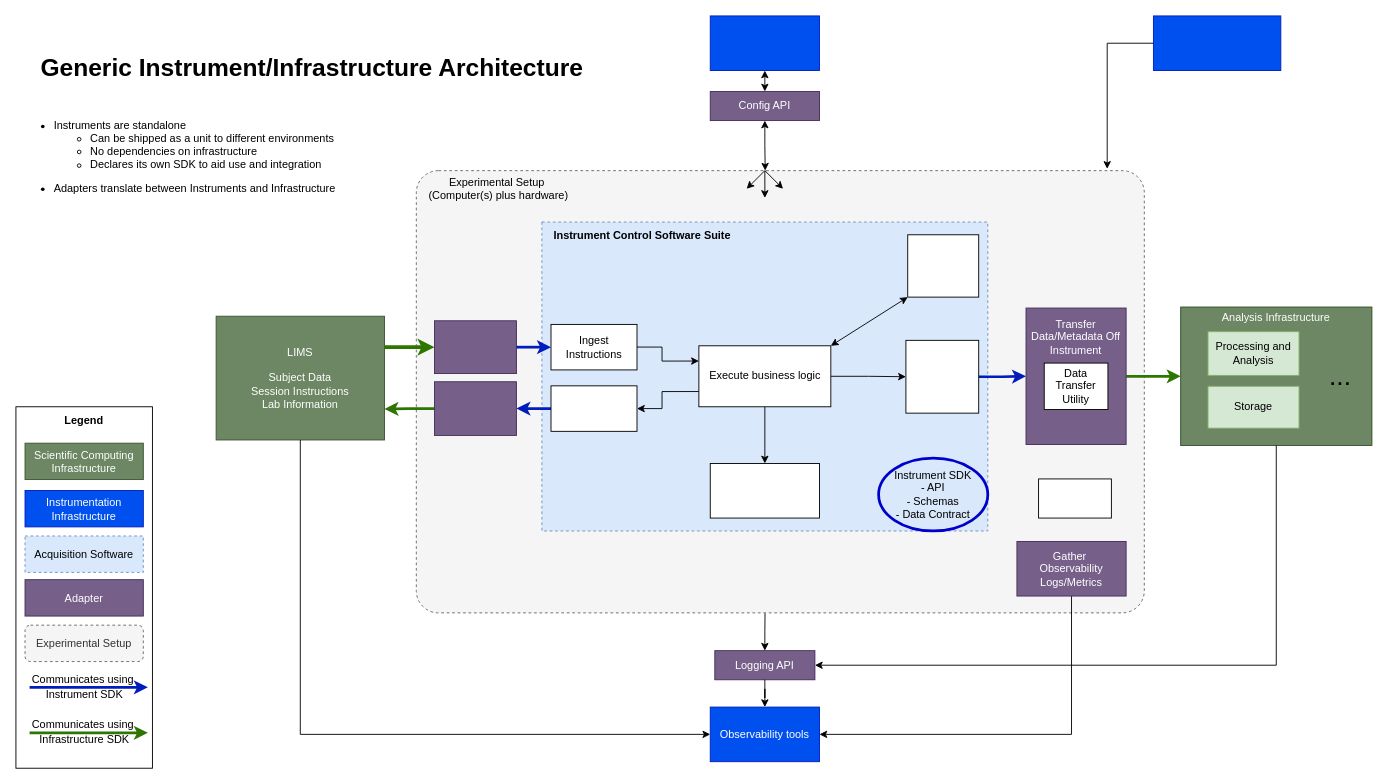
This 1388x784 diagram has some shape labels left out. Here are the shapes that lost their labels. From the top down, the centre of each, then its label:
At (764,43): "Instrument Configuration Storage".
At (1217,43): "Rig management tools (setup, deployment, updating)".
At (943,265): "Interaction UI or API".
At (475,347): "Translate Instructions from LIMS".
At (942,376): "Export data & metadata".
At (475,408): "Translate session info back to LIMS".
At (593,408): "Collect and Report Session Information".
At (764,490): "Hardware drivers".
At (1074,498): "System Monitoring".
